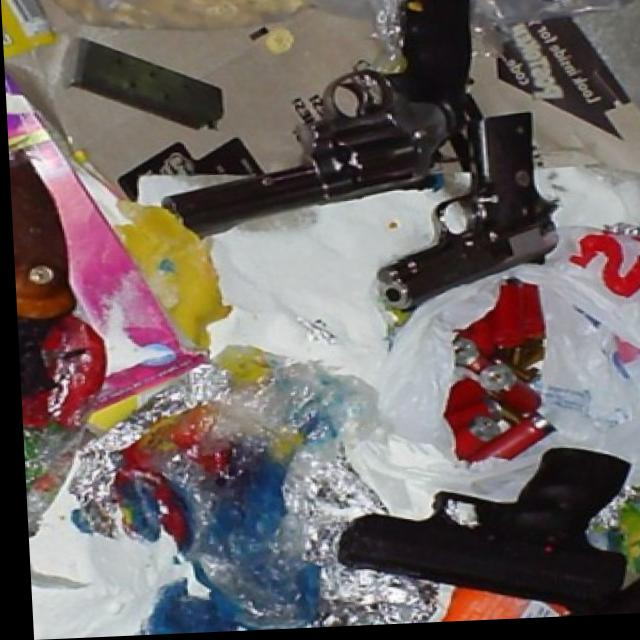handgun: (158, 0, 488, 247), (326, 452, 634, 628), (372, 115, 564, 322)
